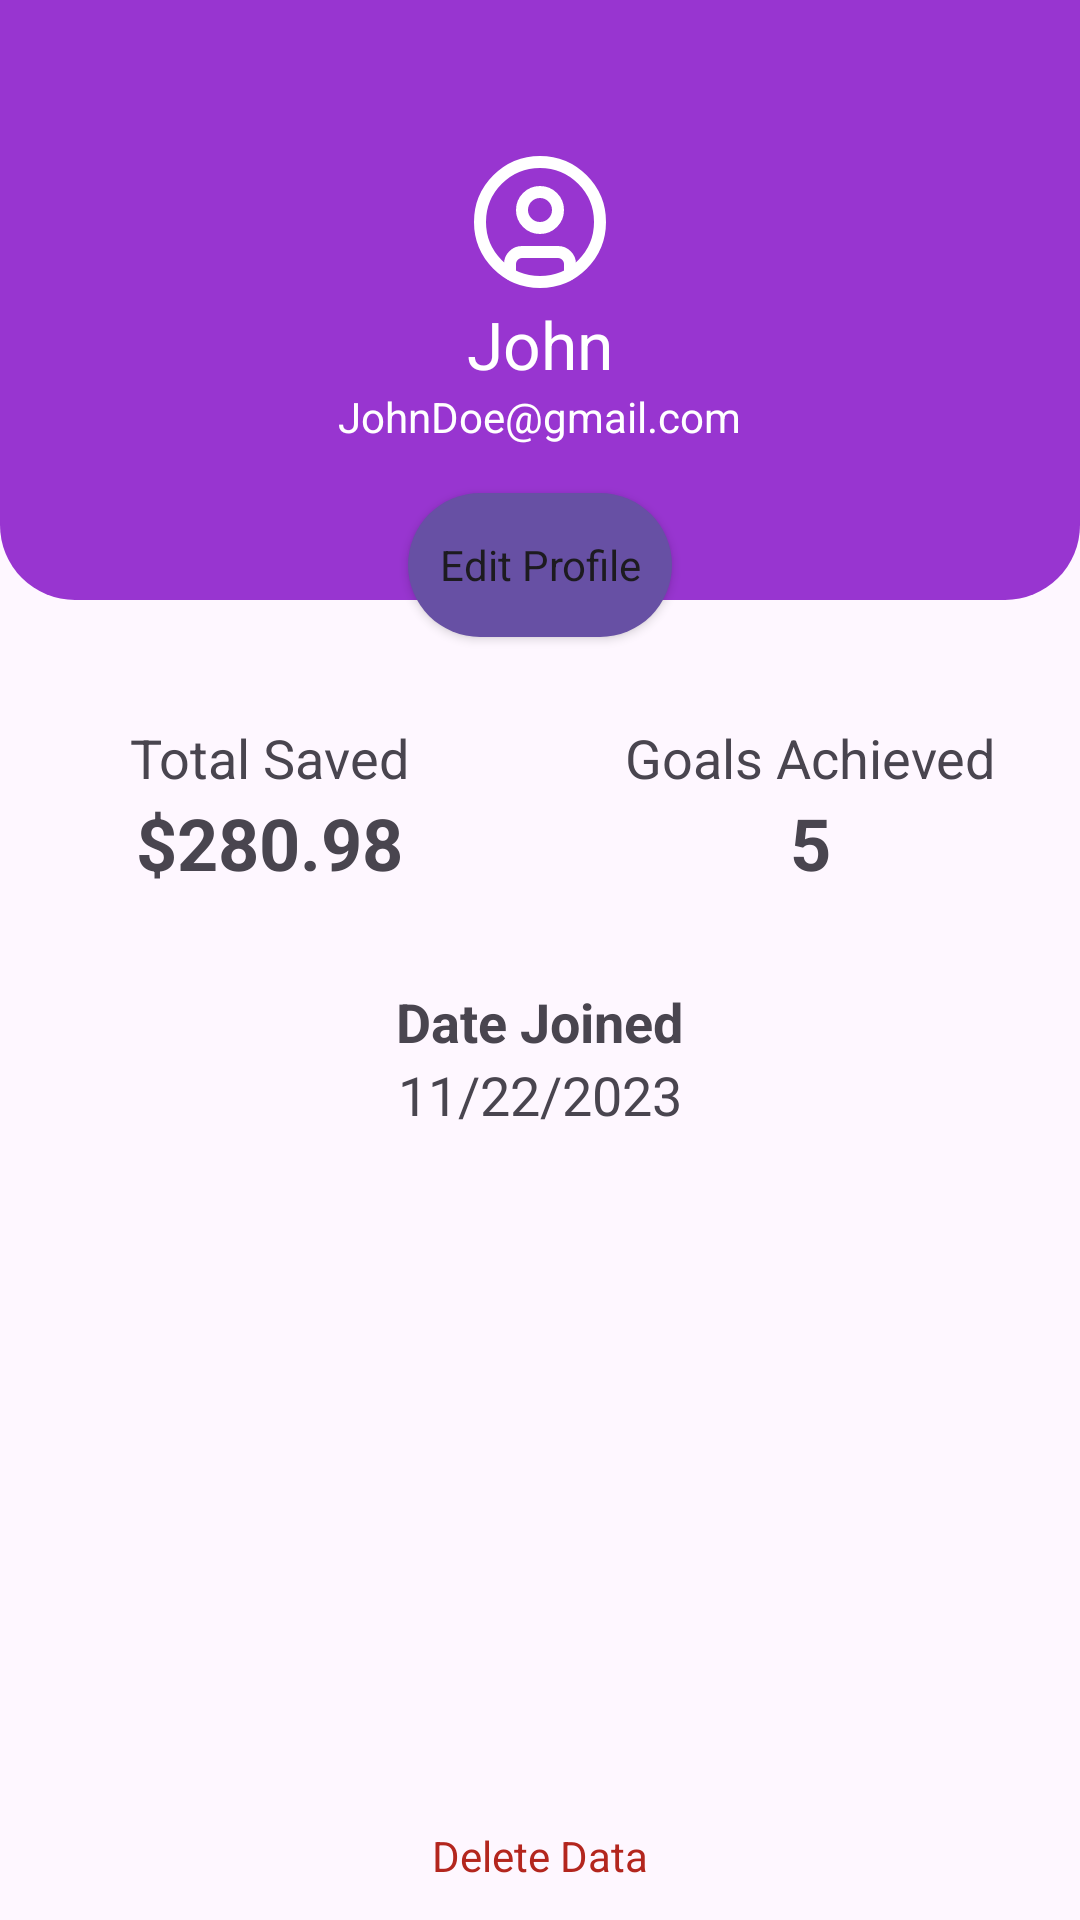

Named icons in this screenshot (1080x1920) and their bounding boxes, (x1, y1, x2, y2):
circle user: (474, 156, 606, 288)
